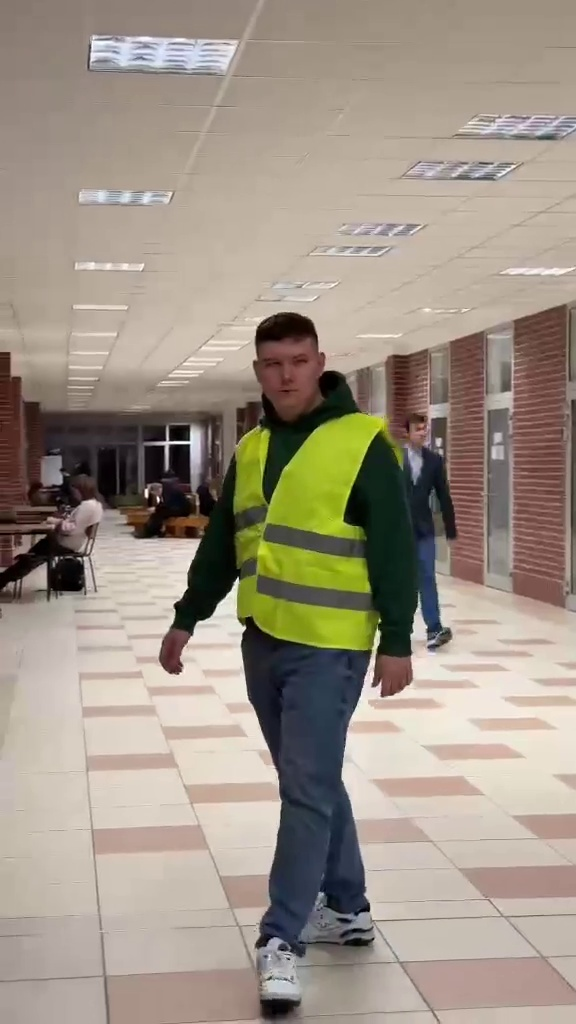no vest: (387, 387, 491, 665), (0, 470, 114, 619)
vest: (160, 301, 394, 992)
